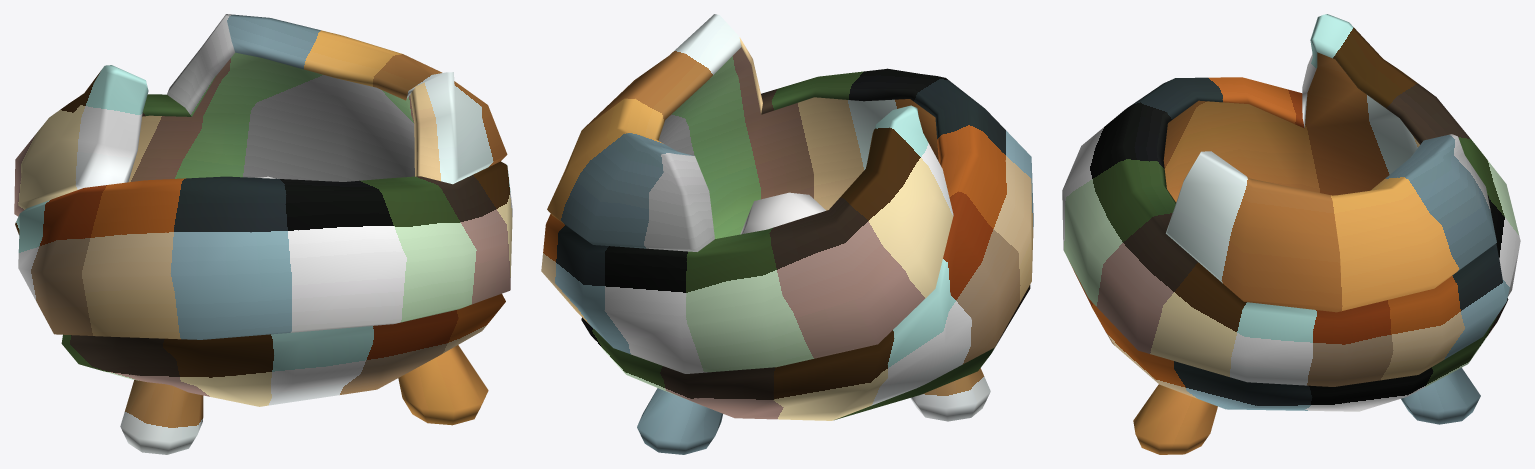
The model's file is P_AP22Lamp.glb.
3 views of the same model, side by side, from view 1: azimuth 30°, elevation 25°; view 2: azimuth 150°, elevation 25°; view 3: azimuth 270°, elevation 25° (orthographic). The views are drawn at different scales.
Visible parts, largest first — view 1: P_AP22Lamp; view 2: P_AP22Lamp; view 3: P_AP22Lamp.
Part boxes in pixels (bbox=[...]): P_AP22Lamp: bbox=[14, 14, 512, 454]; P_AP22Lamp: bbox=[541, 14, 1033, 454]; P_AP22Lamp: bbox=[1062, 14, 1520, 454].
Bounding box in the file's own units: 0.6159 × 0.463 × 0.6077.
1 material, 1 textured.
